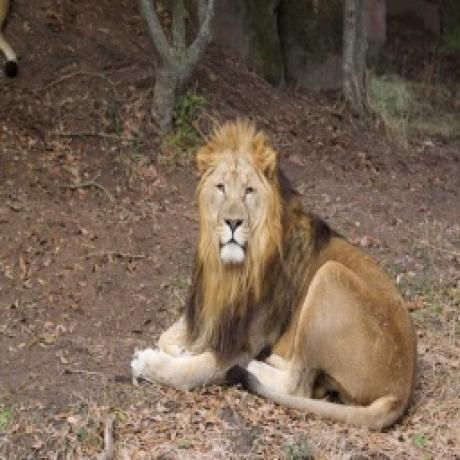Lion: (127, 120, 418, 430)
